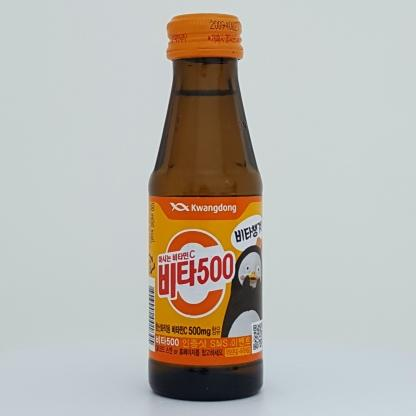-----500---100ML: (148, 12, 264, 402)
